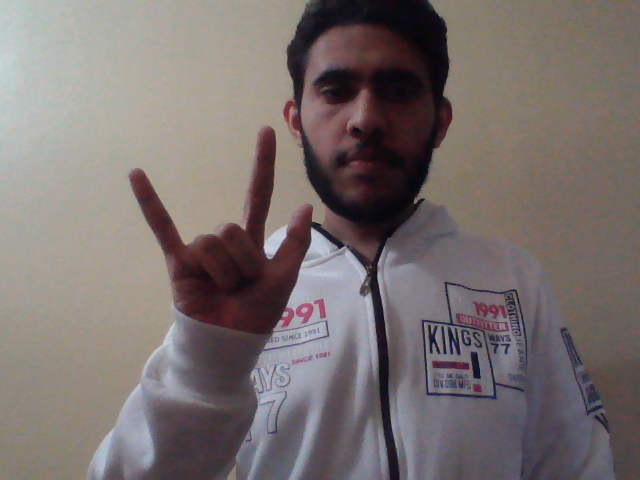iloveyou: (123, 123, 315, 344)
